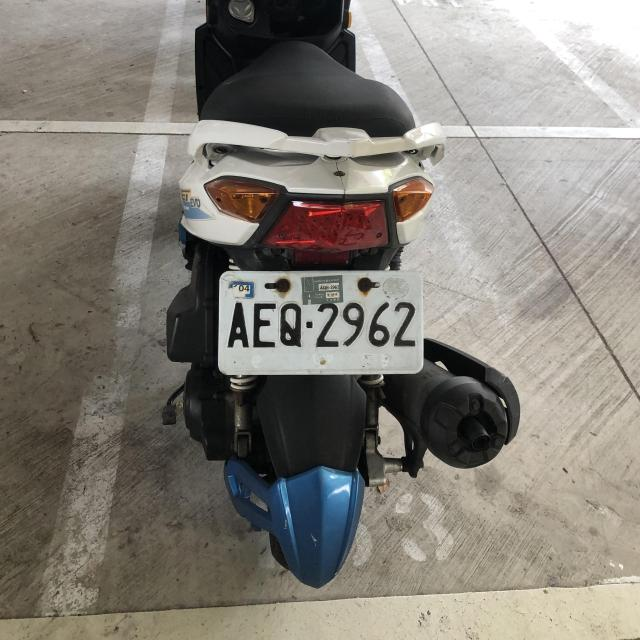W: (216, 267, 425, 377)
